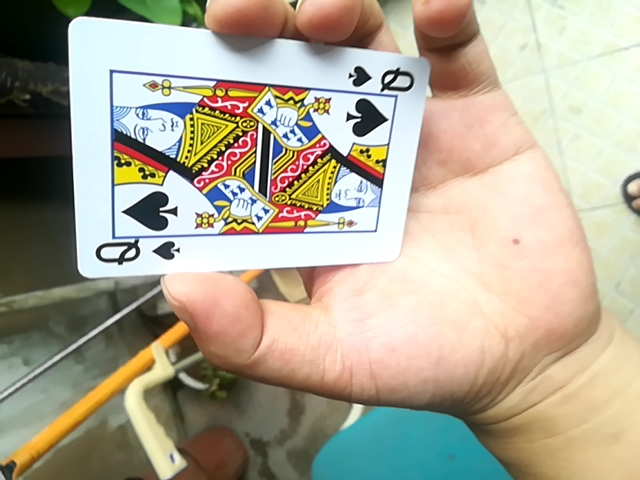ht q: (64, 17, 428, 277)
